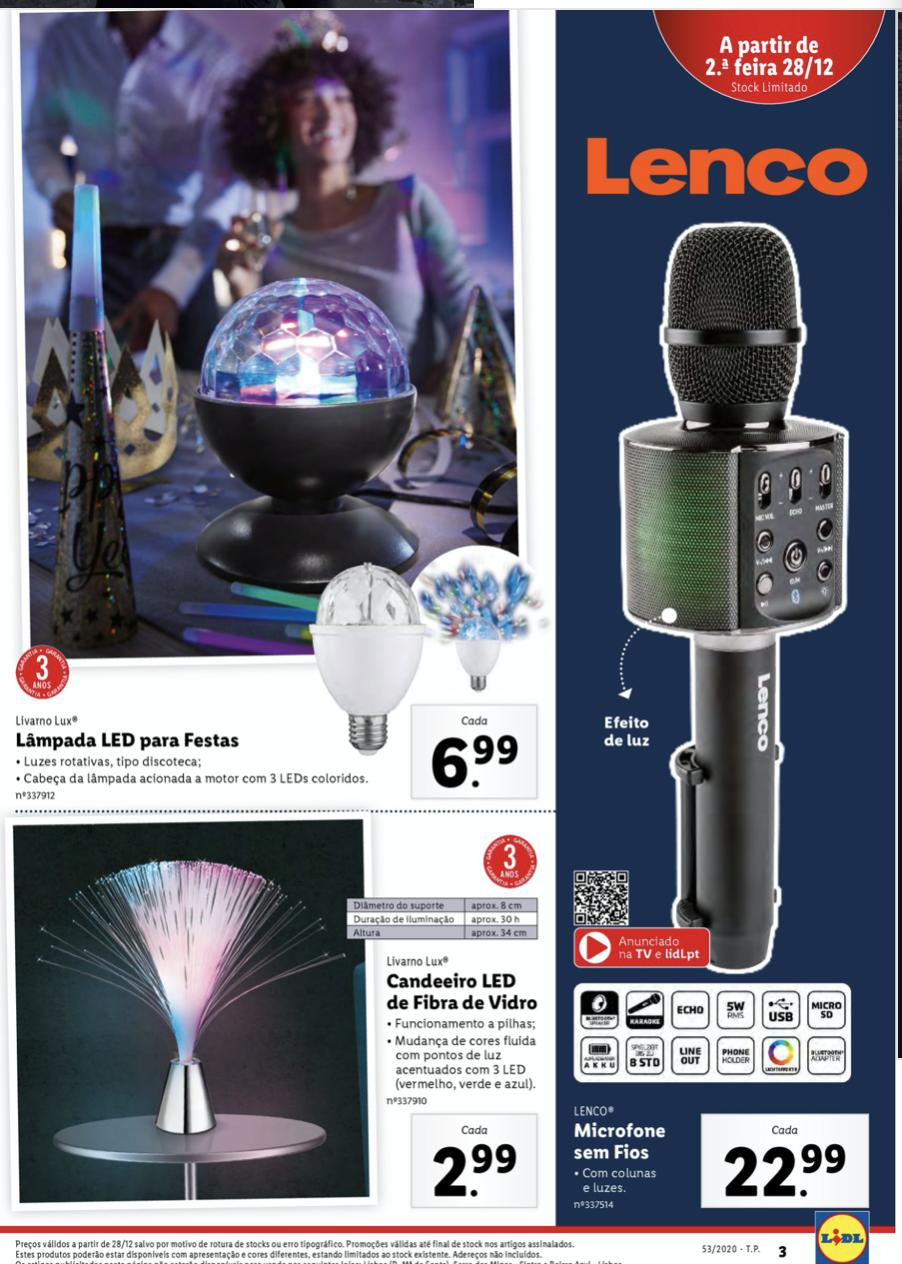name: (379, 970, 544, 1017), (15, 728, 249, 754), (569, 1118, 676, 1162)
price: (713, 1140, 854, 1200), (427, 728, 532, 795), (429, 1139, 522, 1200)
product: (16, 17, 549, 812), (560, 126, 886, 1222), (24, 828, 547, 1209)
